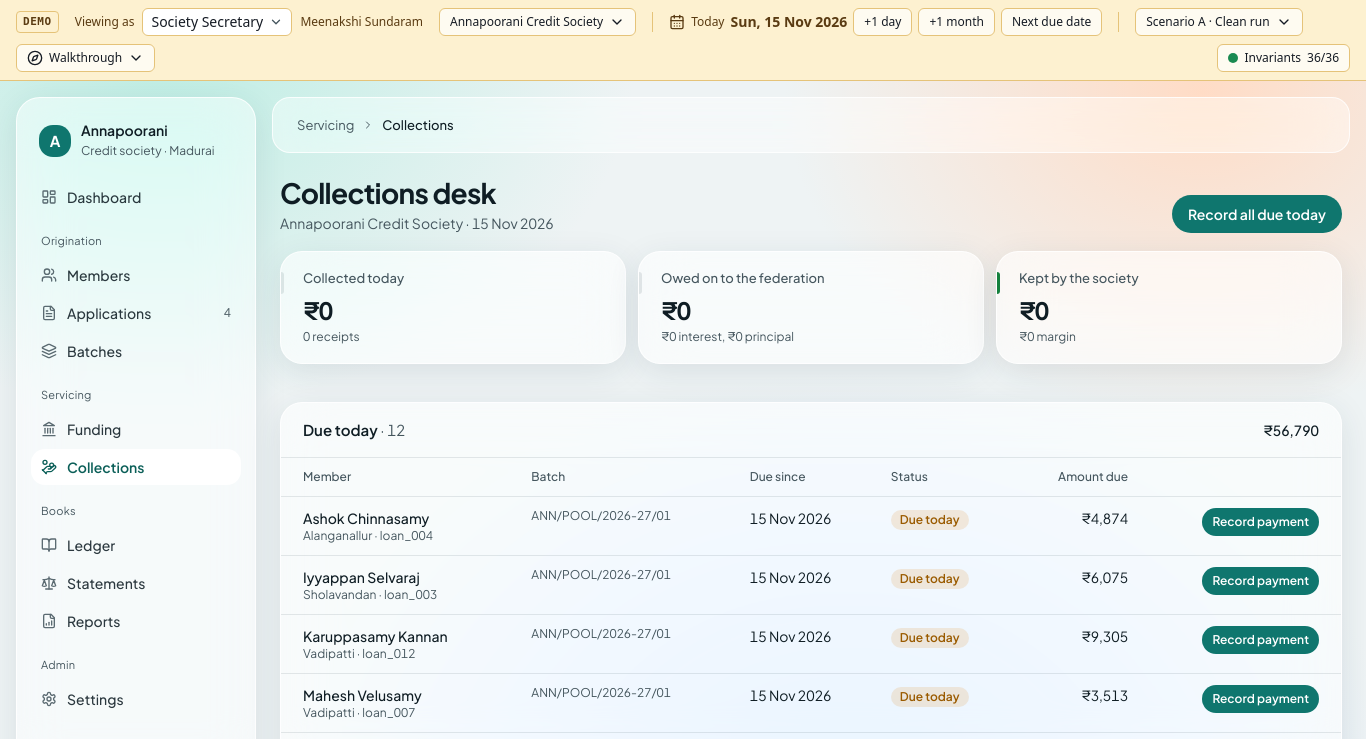
Test: who may do what › shows the auditor the desk but no way to record
Select "Auditor" in the dropdown. click: (218,22)
box: [142,8,292,36]
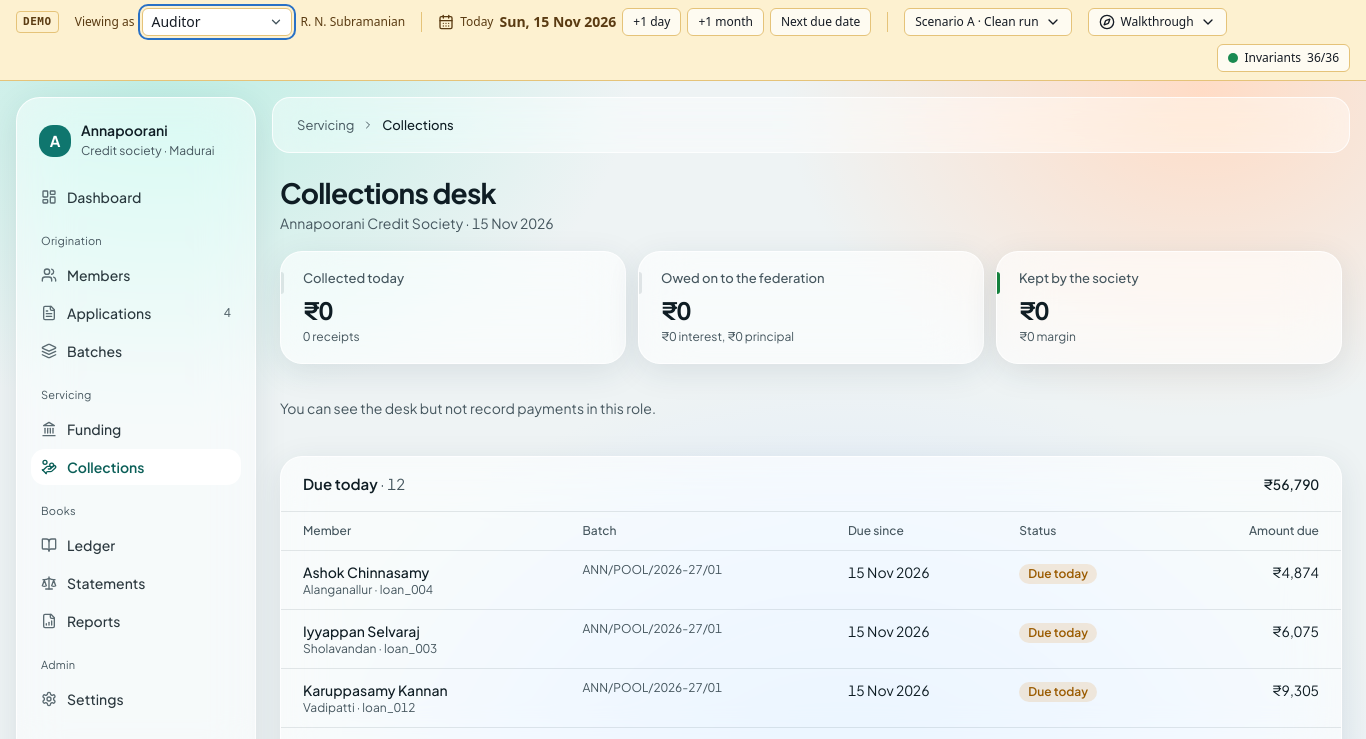
Expected: the text "You can see the desk but not record payments in this role." is shown, [280,399,656,417]
Expected: the button "Record all due today" is gone
